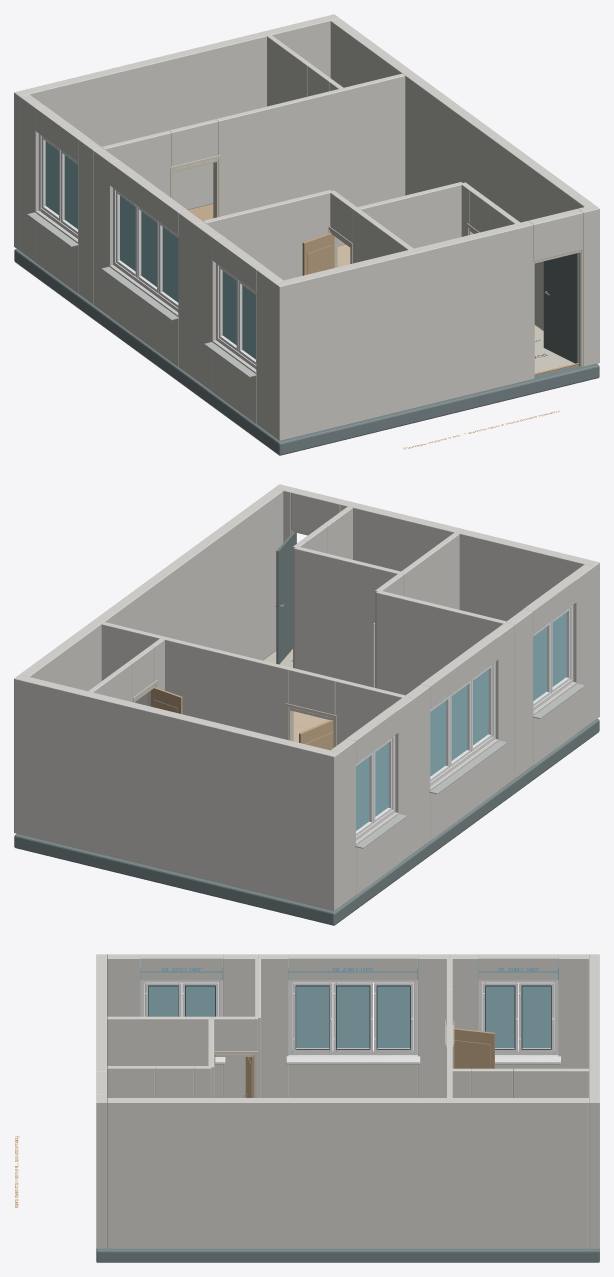
Rendered from full.glb.
3 renders of one model, top to bottom at view 1: azimuth 30°, elevation 25°; view 2: azimuth 150°, elevation 25°; view 3: azimuth 270°, elevation 25°, orthographic. The views are drawn at different scales.
Parts seen in each view (by area): view 1: Наружная стена снизу · A, Наружная стена сверху, Спальня — зал · B, Наружная стена справа, Основание, Кухня — зал, Санузел — зал, Д1 · полотно.001, Фасад слева · кухня · B, Фасад слева · зал · подоконная часть, Фасад слева · зал · B, Фасад слева · спальня · B (+27 smaller); view 2: Наружная стена сверху, Наружная стена справа, Наружная стена снизу · A, Спальня — зал · B, Санузел — зал, Основание, Кухня — зал, Фасад слева · кухня · A, Фасад слева · зал · подоконная часть, Фасад слева · кухня · B, Кухня — санузел, Фасад слева · зал · A (+23 smaller); view 3: Наружная стена справа, Основание, Кухня — санузел, Фасад слева · зал · подоконная часть, Фасад слева · зал · B, Фасад слева · зал · A, Фасад слева · спальня · B, Фасад слева · зал · перемычка, Наружная стена сверху, Фасад слева · кухня · B, Спальня — кладовая · B, Фасад слева · кухня · перемычка (+26 smaller).
Part boxes in pixels (x1=…): Наружная стена снизу · A: x1=274, y1=221, x2=533, y2=440; Наружная стена сверху: x1=14, y1=14, x2=339, y2=250; Спальня — зал · B: x1=215, y1=73, x2=405, y2=246; Наружная стена справа: x1=330, y1=18, x2=593, y2=330; Основание: x1=14, y1=203, x2=599, y2=455; Кухня — зал: x1=203, y1=190, x2=332, y2=280; Санузел — зал: x1=355, y1=182, x2=462, y2=248; Д1 · полотно.001: x1=543, y1=253, x2=578, y2=363; Фасад слева · кухня · B: x1=194, y1=222, x2=221, y2=391; Фасад слева · зал · подоконная часть: x1=110, y1=265, x2=178, y2=366; Фасад слева · зал · B: x1=93, y1=148, x2=118, y2=316; Фасад слева · спальня · B: x1=19, y1=94, x2=44, y2=262; Наружная стена сверху: x1=14, y1=674, x2=339, y2=910; Наружная стена справа: x1=20, y1=488, x2=283, y2=691; Наружная стена снизу · A: x1=340, y1=500, x2=599, y2=720; Спальня — зал · B: x1=101, y1=622, x2=291, y2=739; Санузел — зал: x1=294, y1=546, x2=402, y2=687; Основание: x1=14, y1=650, x2=599, y2=925; Кухня — зал: x1=376, y1=590, x2=505, y2=695; Фасад слева · кухня · A: x1=567, y1=564, x2=594, y2=733; Фасад слева · зал · подоконная часть: x1=430, y1=739, x2=498, y2=840; Фасад слева · кухня · B: x1=505, y1=609, x2=533, y2=778; Кухня — санузел: x1=401, y1=532, x2=459, y2=609; Фасад слева · зал · A: x1=489, y1=622, x2=514, y2=790; Наружная стена справа: x1=107, y1=1098, x2=589, y2=1248; Основание: x1=96, y1=1248, x2=599, y2=1262; Кухня — санузел: x1=107, y1=1016, x2=211, y2=1065; Фасад слева · зал · подоконная часть: x1=288, y1=1055, x2=417, y2=1097; Фасад слева · зал · B: x1=418, y1=954, x2=449, y2=1097; Фасад слева · зал · A: x1=258, y1=954, x2=288, y2=1097; Фасад слева · спальня · B: x1=558, y1=954, x2=589, y2=1068; Фасад слева · зал · перемычка: x1=288, y1=954, x2=417, y2=980; Наружная стена сверху: x1=589, y1=954, x2=599, y2=1248; Фасад слева · кухня · B: x1=223, y1=954, x2=257, y2=1097; Спальня — кладовая · B: x1=513, y1=1068, x2=589, y2=1097; Фасад слева · кухня · перемычка: x1=141, y1=954, x2=222, y2=980.
Size of the model in its own units: 6 by 2.97 by 9.78.
